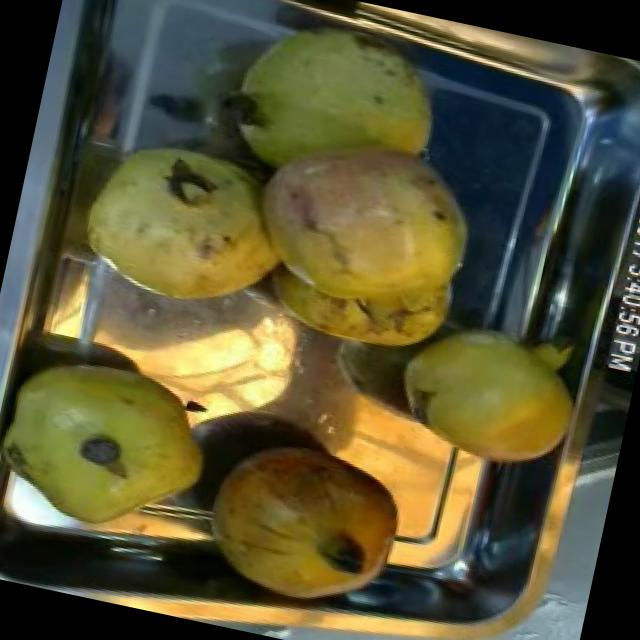fruit: (210, 97, 506, 386), (60, 109, 318, 332), (178, 414, 424, 629), (0, 336, 232, 559), (372, 302, 594, 488)
